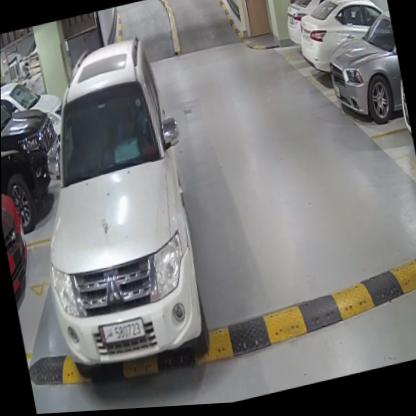np: (97, 315, 145, 349)
